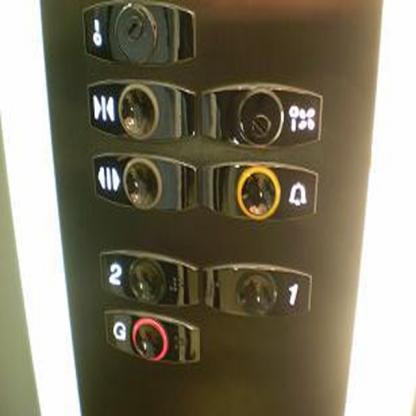1: (200, 259, 314, 323)
2: (96, 245, 200, 311)
G: (101, 306, 202, 367)
alarm: (200, 157, 321, 226)
close: (83, 76, 198, 146)
fan: (200, 80, 324, 151)
key: (79, 0, 198, 67)
open: (88, 149, 198, 217)
